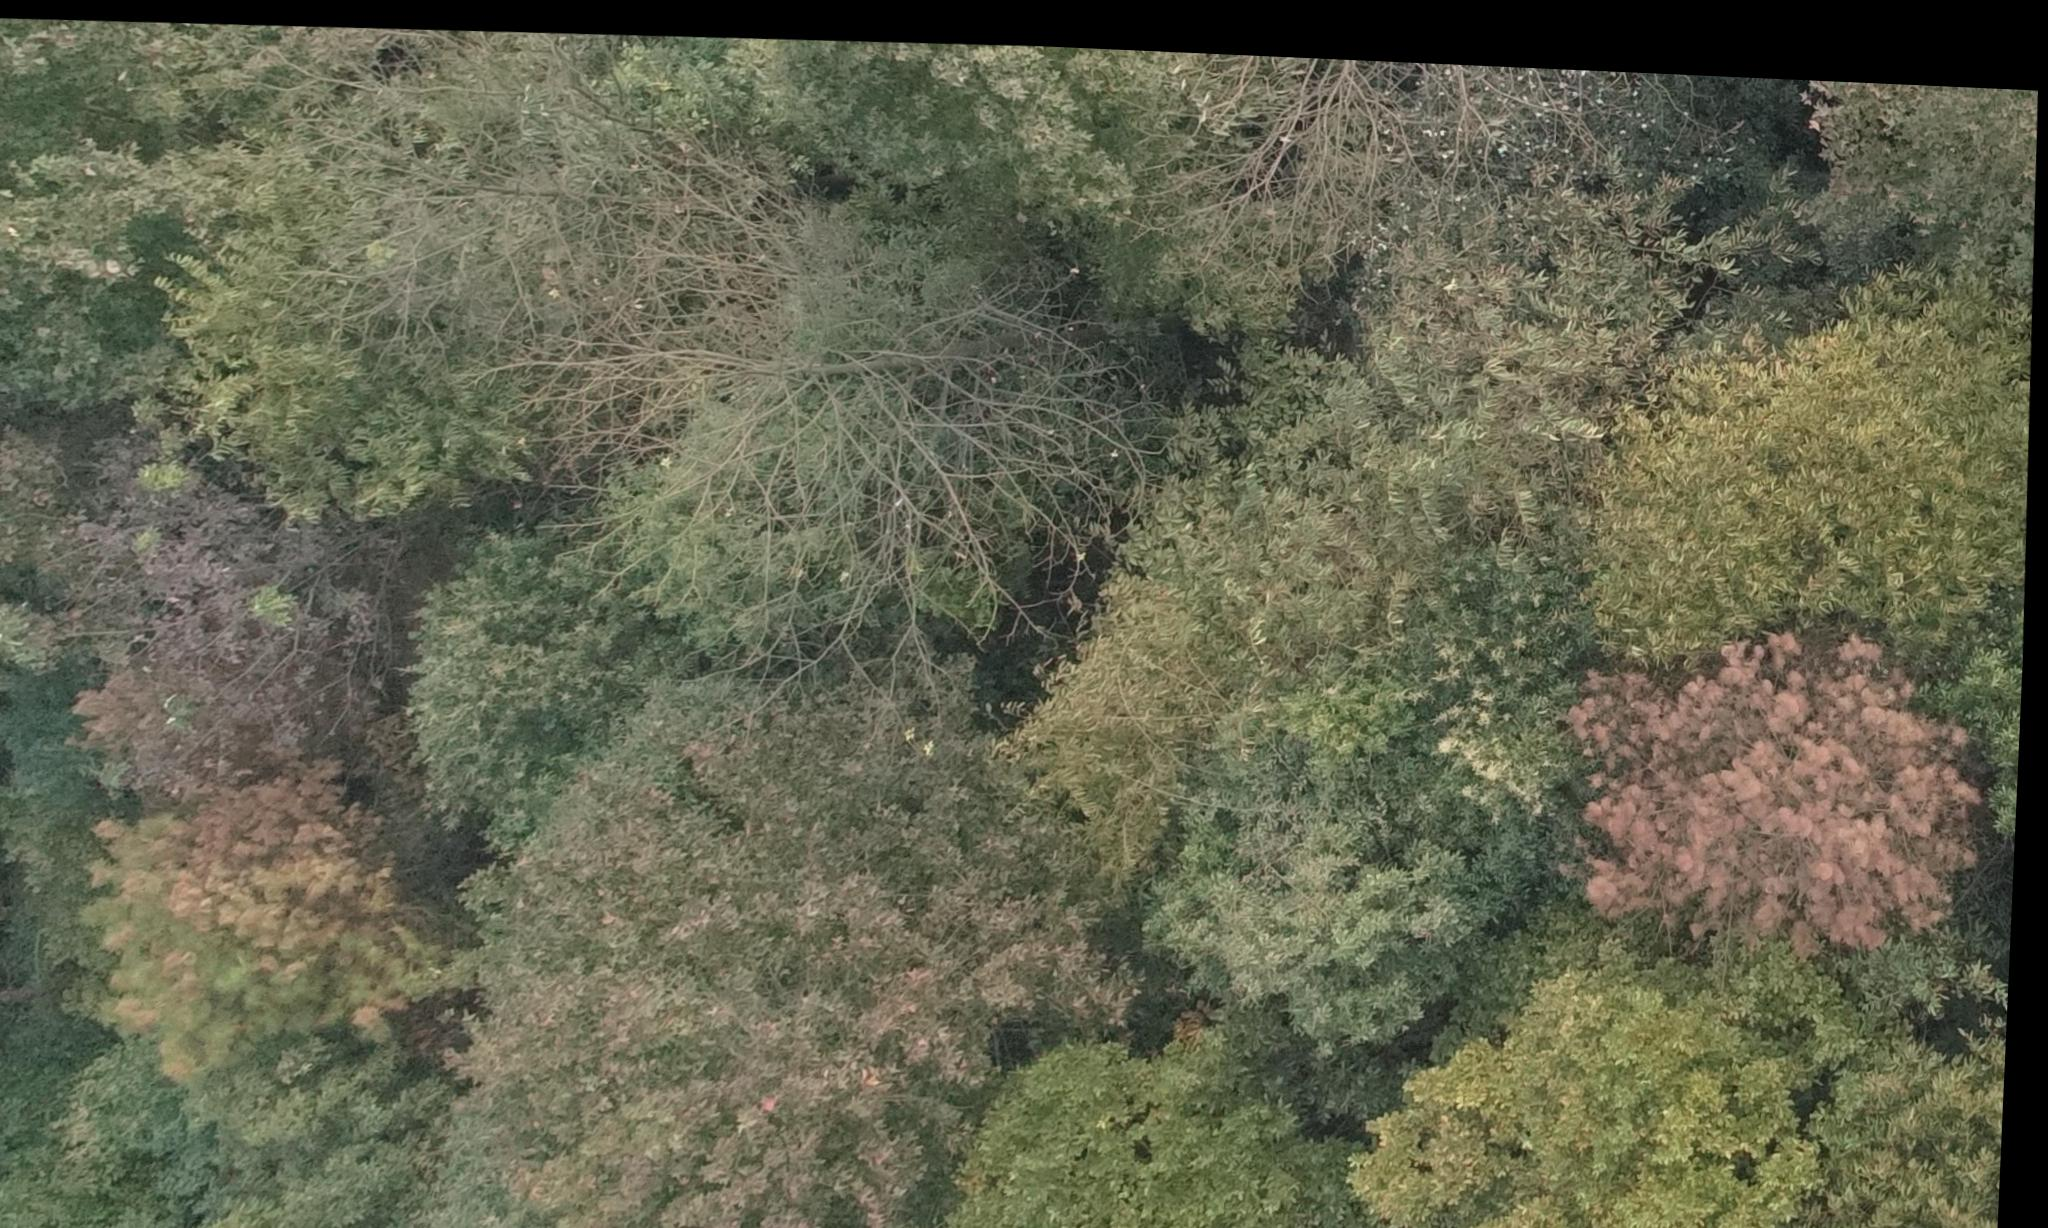heavy: (1577, 599, 1998, 950)
light: (96, 795, 422, 1079)
